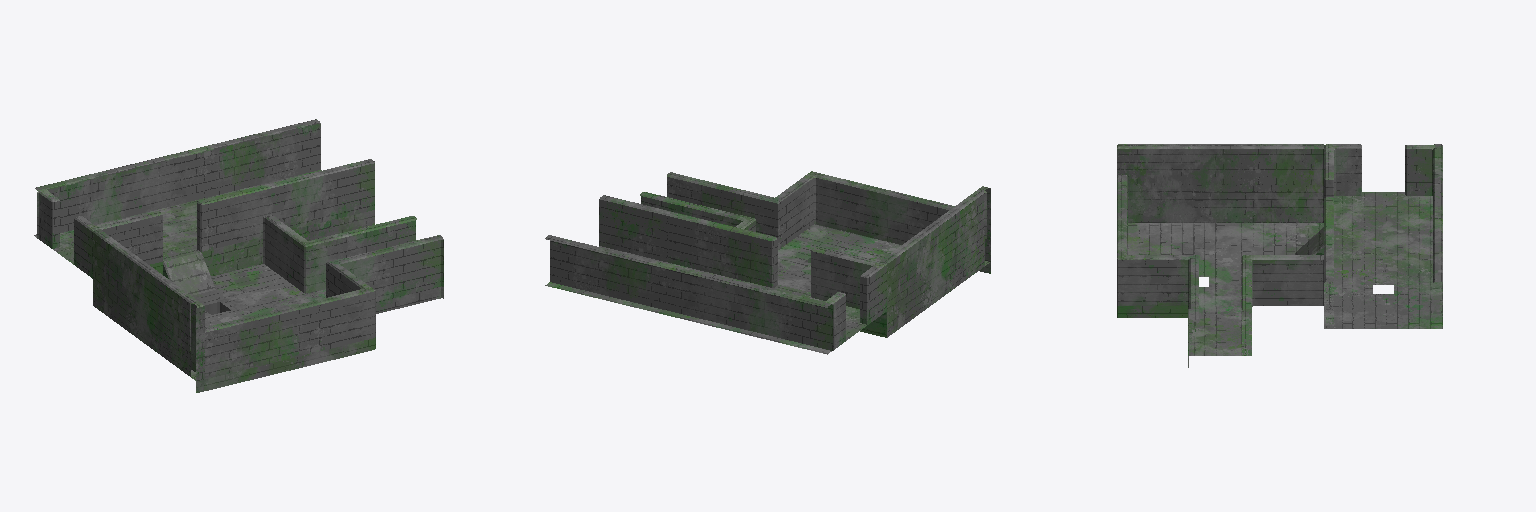
3 renders of one model, left to right at view 1: azimuth 30°, elevation 25°; view 2: azimuth 150°, elevation 25°; view 3: azimuth 270°, elevation 25°, orthographic.
Visible parts, largest first — view 1: Cube.165, Cube.163, Cube.164, Cube.170, Cube.168, Cube.166, Cube.169, Cube.167; view 2: Cube.164, Cube.165, Cube.168, Cube.170, Cube.163, Cube.169, Cube.166, Cube.167; view 3: Cube.163, Cube.170, Cube.165, Cube.166, Cube.169, Cube.167, Cube.164, Cube.168.
Part boxes in pixels (x1,y1,x2,y2): Cube.165: (205, 235, 443, 378); Cube.163: (34, 170, 443, 392); Cube.164: (35, 119, 320, 232); Cube.170: (93, 229, 204, 380); Cube.168: (197, 159, 374, 251); Cube.166: (263, 214, 416, 293); Cube.169: (74, 211, 162, 278); Cube.167: (37, 189, 59, 248); Cube.164: (545, 235, 832, 350); Cube.165: (667, 171, 954, 249); Cube.168: (599, 195, 777, 287); Cube.170: (880, 186, 990, 337); Cube.163: (545, 224, 990, 354); Cube.169: (811, 247, 886, 324); Cube.166: (640, 192, 755, 231); Cube.167: (825, 292, 845, 350); Cube.163: (1117, 192, 1442, 367); Cube.170: (1117, 144, 1323, 222); Cube.165: (1117, 175, 1198, 355); Cube.166: (1242, 255, 1323, 355); Cube.169: (1324, 144, 1361, 197); Cube.167: (1405, 145, 1434, 195); Cube.164: (1433, 144, 1442, 282); Cube.168: (1324, 197, 1333, 328).
Size of the model in its own units: 99.89 by 28.99 by 99.
Materials: 4 (2 with a texture image).